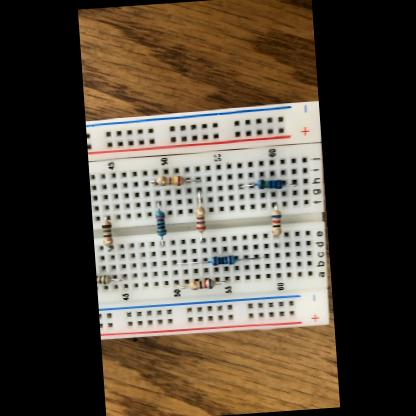breadboard: (84, 100, 334, 340)
resistor: (154, 174, 184, 187), (256, 177, 283, 190), (188, 277, 214, 290), (270, 210, 282, 237), (154, 209, 166, 236), (101, 219, 112, 247), (194, 206, 205, 232), (208, 254, 235, 264), (95, 274, 110, 284)
wire: (235, 254, 266, 260), (173, 259, 208, 264), (173, 280, 187, 288), (214, 277, 228, 284), (110, 274, 126, 280), (184, 177, 200, 182), (283, 180, 296, 186), (238, 183, 257, 187), (199, 231, 205, 242), (197, 188, 200, 206), (159, 236, 163, 247), (274, 236, 278, 245), (156, 201, 160, 210), (107, 245, 112, 251), (272, 202, 276, 209), (149, 179, 155, 183), (103, 215, 107, 219)
